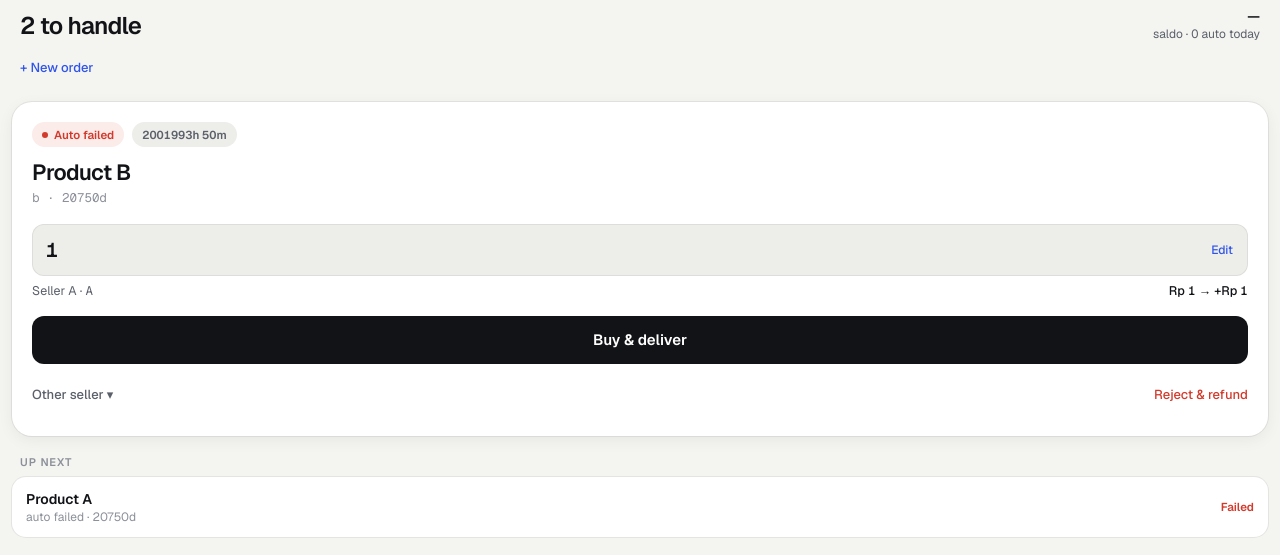
Scenario: Queue › rowTapMovesFocus
The image size is (1280, 555).
Expected: the heading "Product B" is shown, [32,158,131,186]
Click the button "Product A auto failed · 20750d Failed" at (59, 499), box [12,477,1268,537]
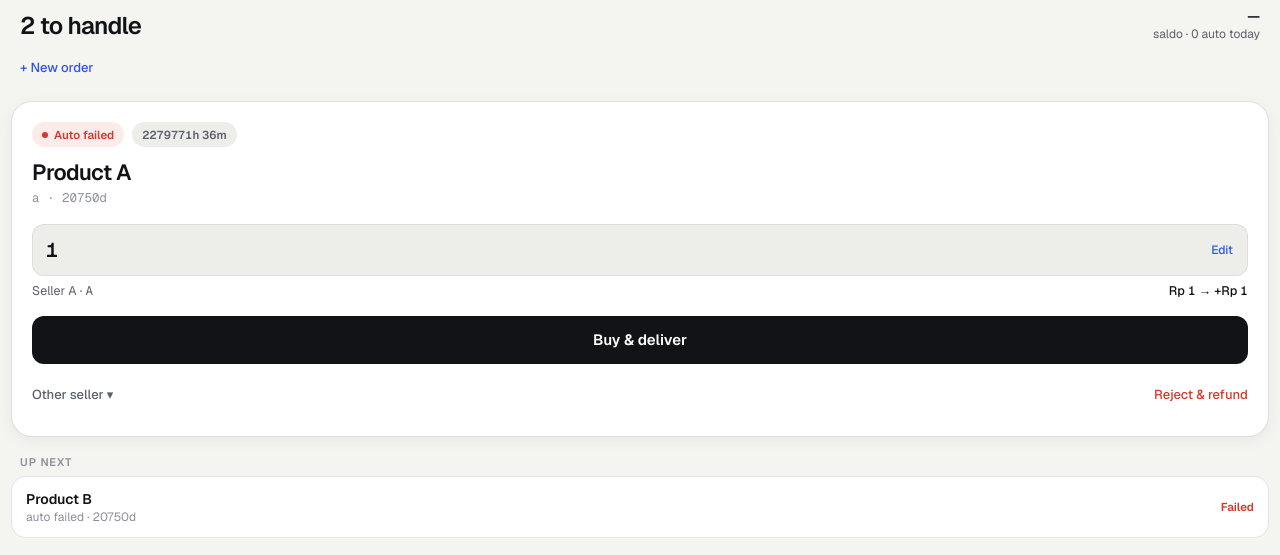
Expected: the heading "Product A" is shown, [32,158,131,186]
